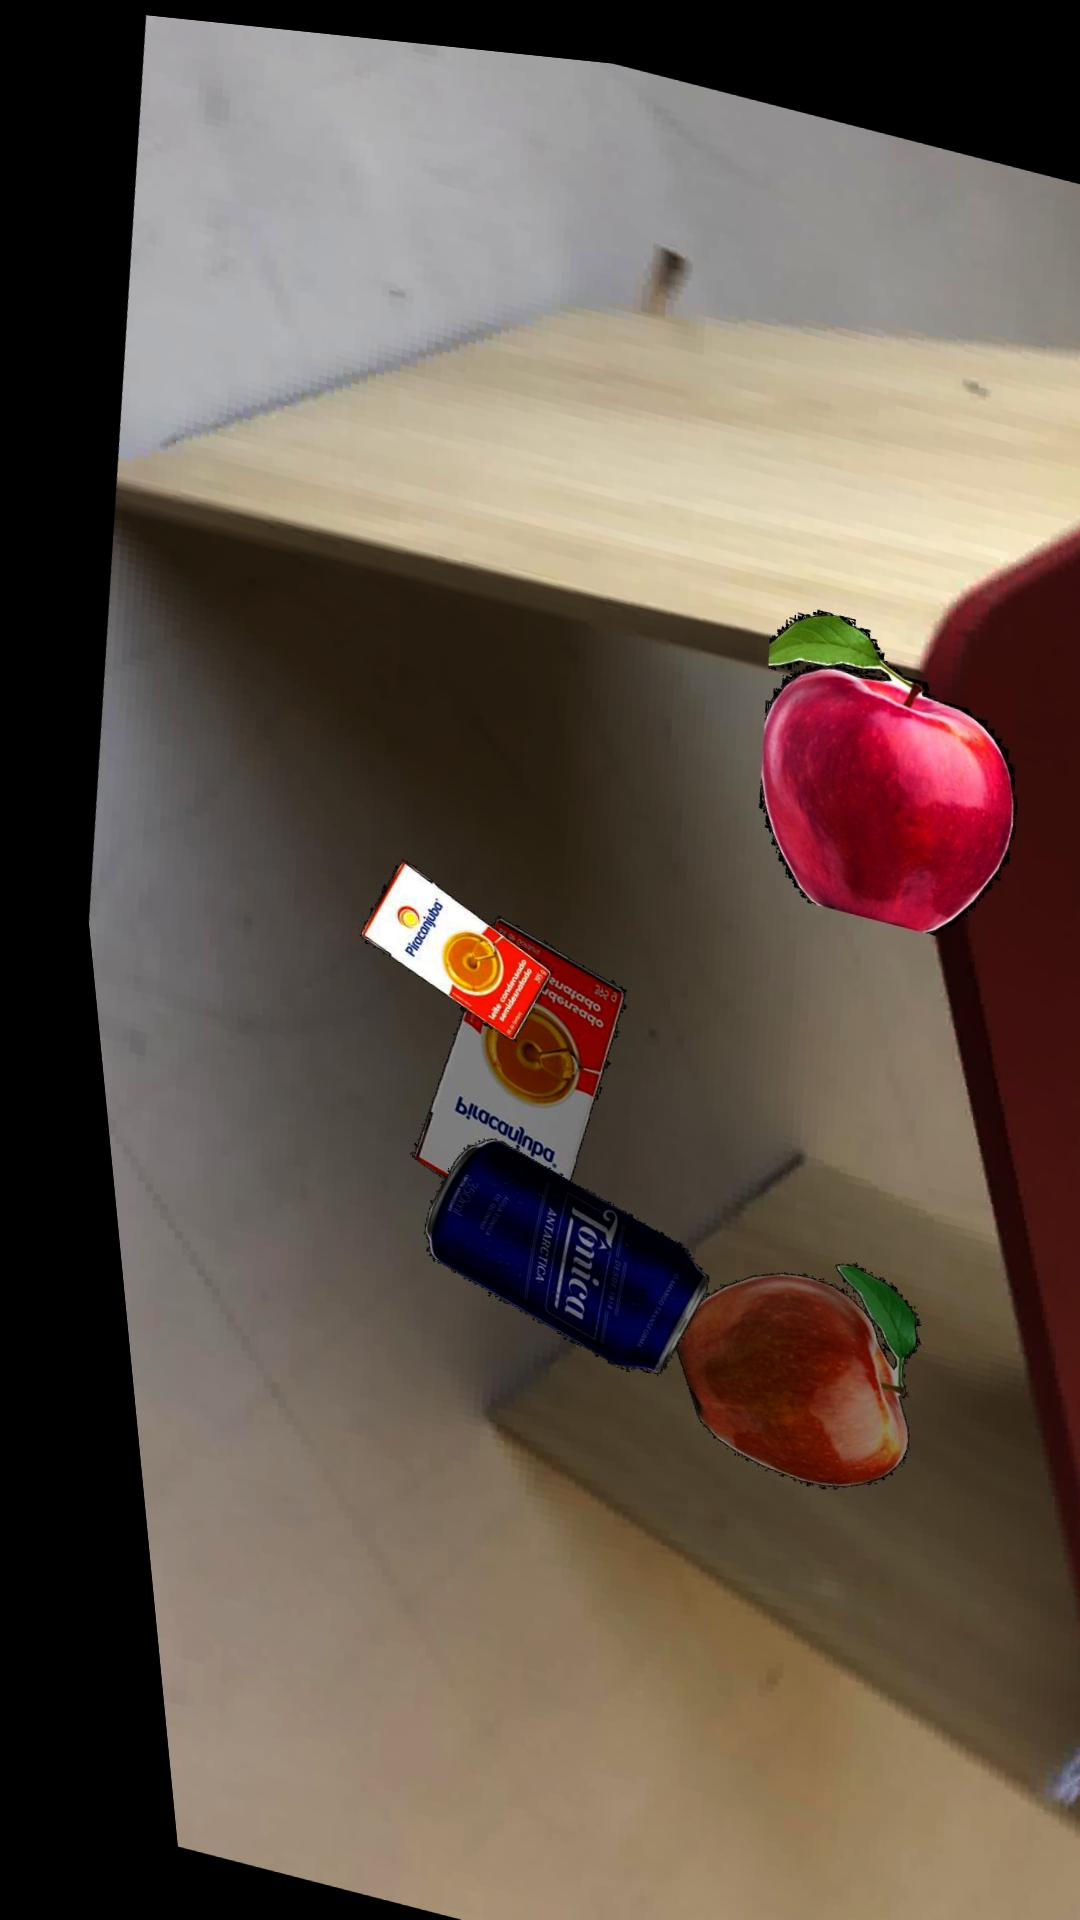apple: (742, 593, 1001, 915), (647, 1249, 894, 1473)
tonic: (398, 1131, 682, 1364)
